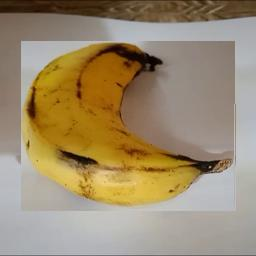Banana Semifresh: (22, 41, 237, 211)
